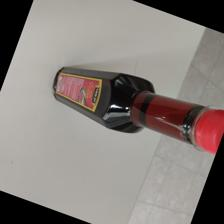Namngu: (52, 66, 224, 154)
